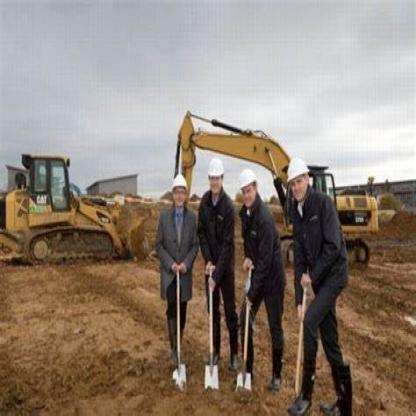person: (286, 147, 362, 412), (235, 148, 288, 394), (148, 156, 196, 382), (193, 149, 237, 386)
